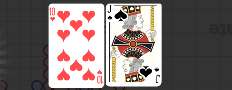10H: (96, 69, 104, 85)
7S: (154, 67, 161, 85)
